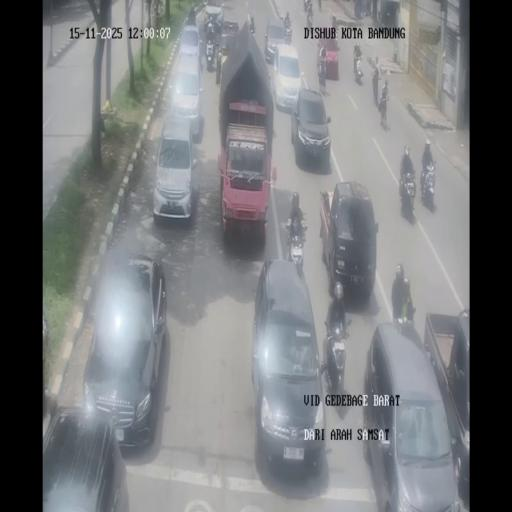car: (362, 323, 457, 507), (82, 254, 169, 451), (251, 259, 325, 482), (39, 405, 130, 509), (153, 118, 200, 224), (292, 86, 332, 172), (169, 60, 204, 138), (272, 44, 303, 111), (178, 22, 201, 69), (264, 22, 286, 62), (204, 0, 224, 34)
motorcycle: (321, 316, 348, 402), (285, 215, 308, 277), (398, 166, 416, 214), (420, 158, 436, 209), (217, 42, 230, 85), (394, 312, 417, 335), (205, 34, 217, 70), (197, 13, 208, 49), (378, 94, 389, 128), (317, 58, 327, 94), (284, 16, 292, 44), (356, 56, 364, 84), (372, 58, 381, 80), (189, 4, 198, 26), (306, 10, 314, 33), (372, 76, 378, 106), (198, 44, 204, 72), (354, 42, 362, 60), (330, 13, 336, 36), (250, 15, 256, 35), (364, 4, 372, 17), (317, 40, 322, 60), (377, 10, 382, 23), (303, 0, 308, 12), (286, 10, 291, 22), (318, 0, 322, 11)
truck: (216, 16, 274, 244), (320, 182, 377, 300)
